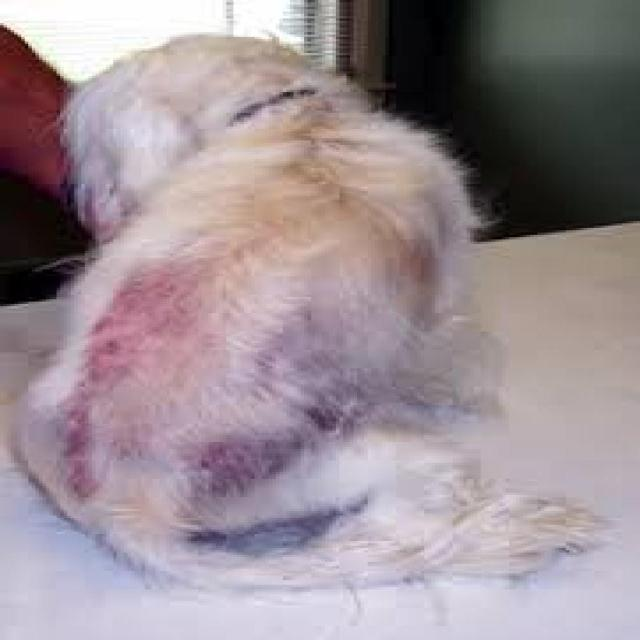allergic dermatitis: (72, 268, 193, 372), (167, 416, 295, 501), (59, 361, 114, 502)
